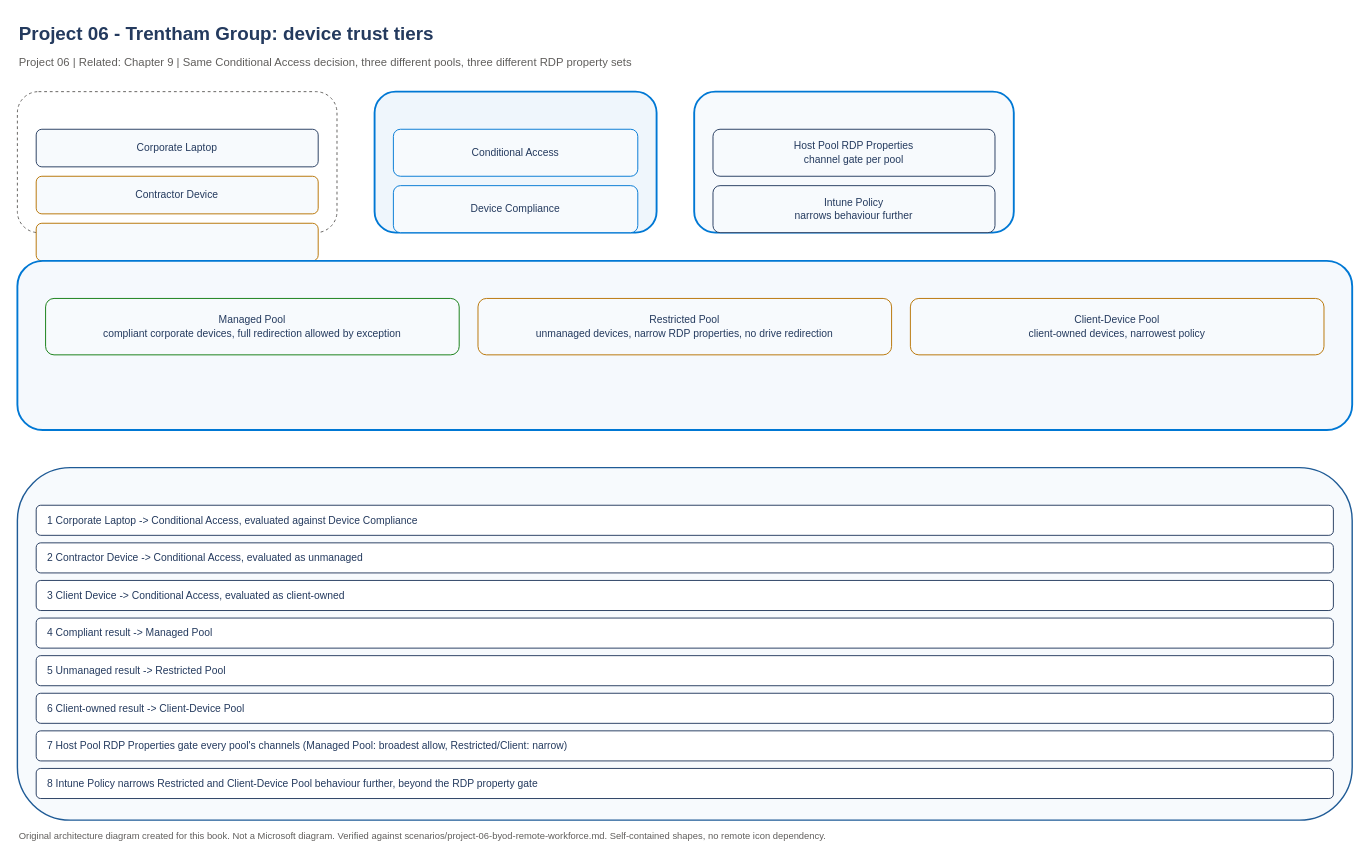
The diagram is 1369 pixels wide and 859 high, and some of its shapes have lost their labels. Each missing label, with the box of its shape:
Client Device: (35, 222, 318, 261)
CONTROL PLANE: (693, 90, 1014, 233)
CUSTOMER AZURE: (16, 259, 1353, 431)
ENDPOINTS: (16, 91, 337, 233)
FLOWS, IN ORDER: (16, 467, 1352, 820)
MICROSOFT ENTRA ID: (373, 90, 657, 233)
